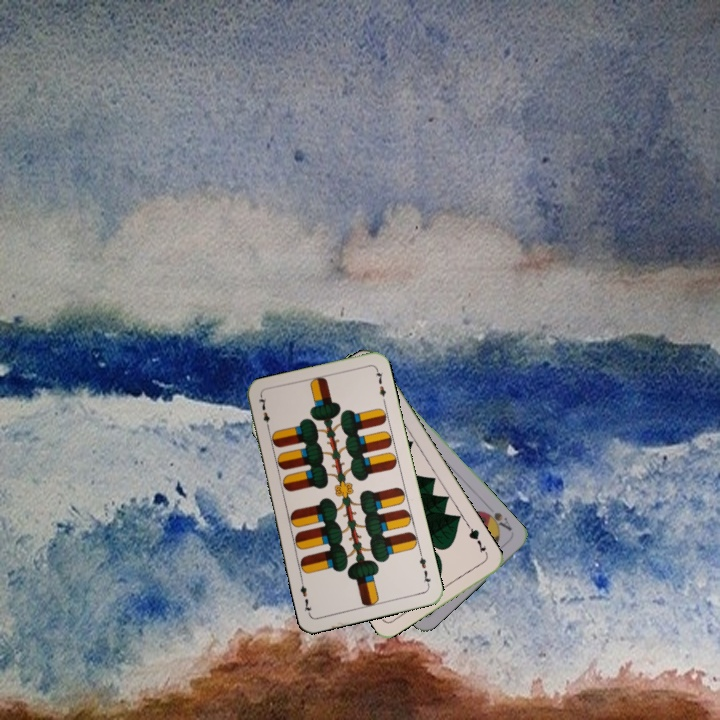E7: (415, 549, 433, 589), (254, 393, 272, 433)
G7: (464, 522, 491, 559)
SA: (479, 507, 515, 534)
